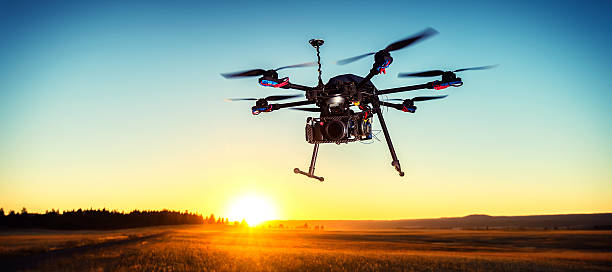Drone: (218, 21, 499, 180)
